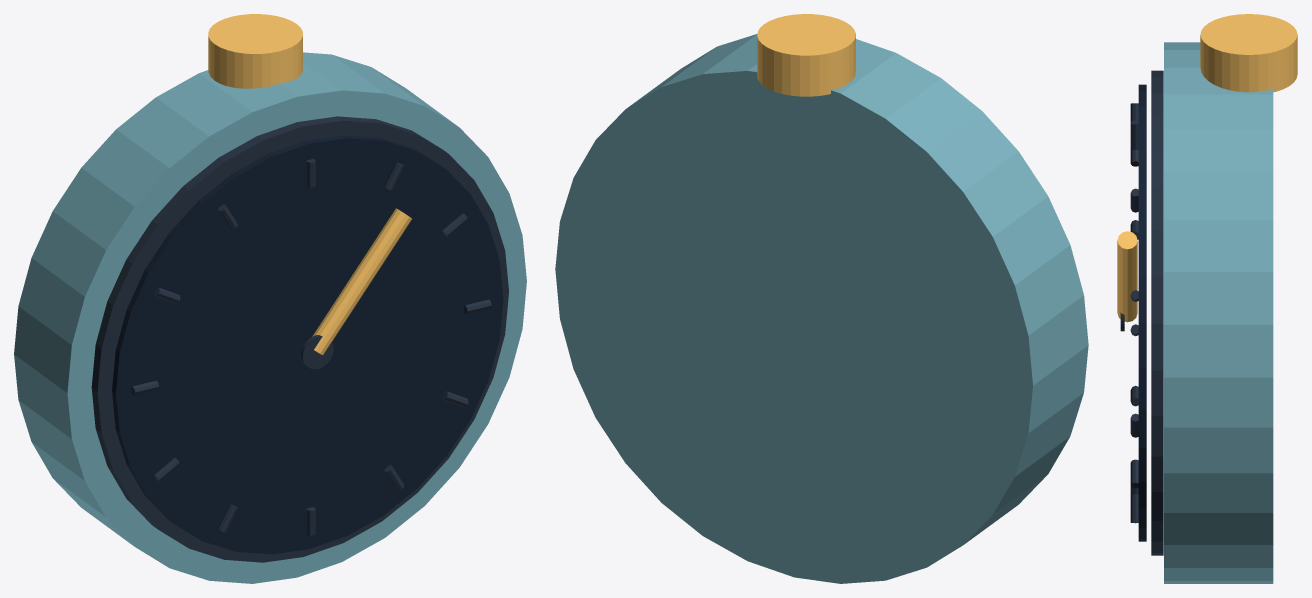
Rendered from timer.glb.
The picture shows the model from 3 angles, left to right: view 1: azimuth 30°, elevation 25°; view 2: azimuth 150°, elevation 25°; view 3: azimuth 270°, elevation 25°; orthographic projection. The views are drawn at different scales.
Visible parts, largest first — view 1: dial, housing, bezel, knob, timer hand0, hub; view 2: housing, knob; view 3: housing, knob, bezel, dial, timer hand0, tick 0, tick 5, tick 4.
Part boxes in pixels (bbox=[...]): dial: bbox=[112, 135, 503, 554]; housing: bbox=[14, 52, 526, 583]; bezel: bbox=[91, 116, 508, 562]; knob: bbox=[208, 14, 302, 88]; timer hand0: bbox=[312, 208, 411, 355]; hub: bbox=[301, 335, 333, 369]; housing: bbox=[555, 34, 1088, 583]; knob: bbox=[757, 14, 855, 96]; housing: bbox=[1164, 42, 1273, 583]; knob: bbox=[1200, 14, 1297, 92]; bezel: bbox=[1151, 70, 1163, 555]; dial: bbox=[1138, 84, 1146, 541]; timer hand0: bbox=[1117, 231, 1137, 322]; tick 0: bbox=[1130, 120, 1138, 150]; tick 5: bbox=[1130, 494, 1138, 523]; tick 4: bbox=[1130, 459, 1138, 488].
Size of the model in its own units: 1.34 by 1.43 by 0.445.
